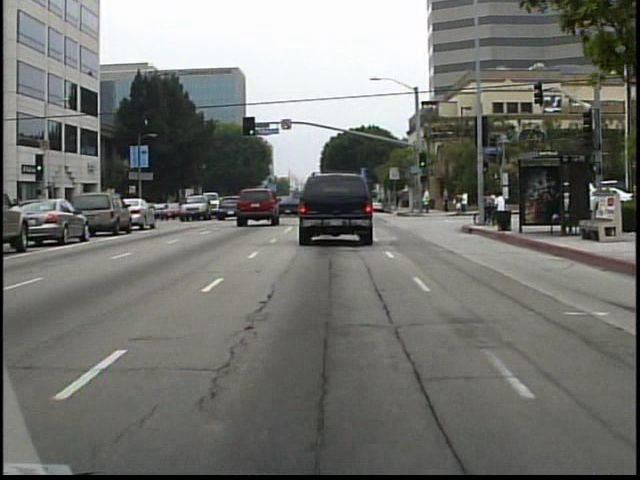person: (441, 181, 454, 215), (421, 184, 434, 217), (399, 186, 400, 211)
